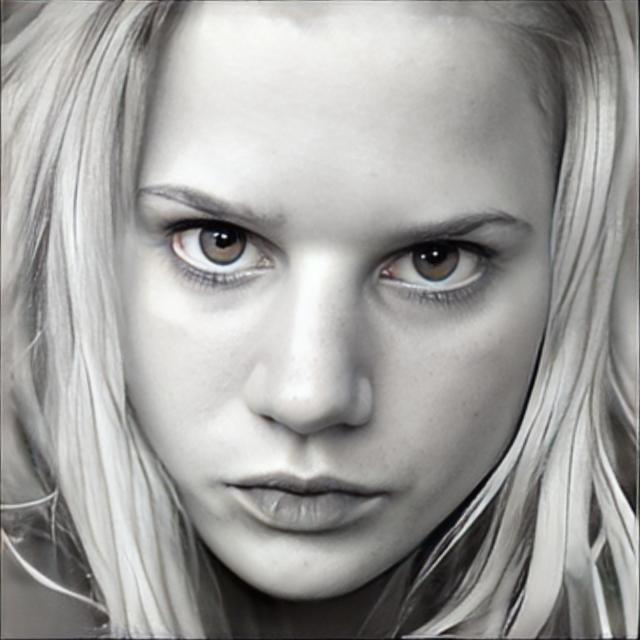anger: (114, 35, 544, 605)
